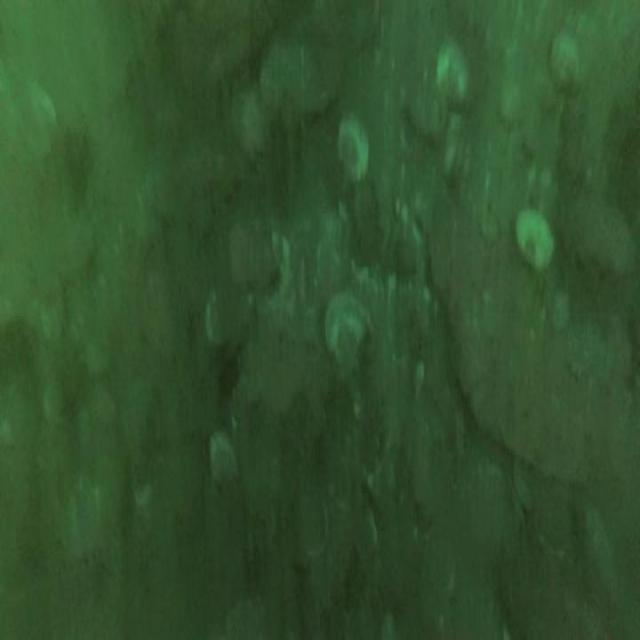scallop: (511, 204, 561, 276), (322, 288, 370, 360), (334, 116, 374, 186), (438, 41, 472, 106), (550, 35, 585, 95), (207, 432, 237, 485)
